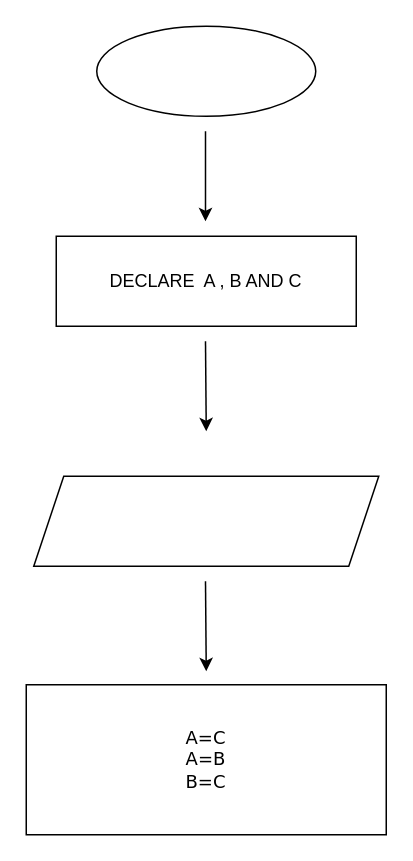
The diagram is 413 pixels wide and 861 high, and some of its shapes have lost their labels. Each missing label, with the box of its shape:
START: (95, 25, 316, 116)
TAKE INPUT OF A AND B: (32, 475, 379, 566)
